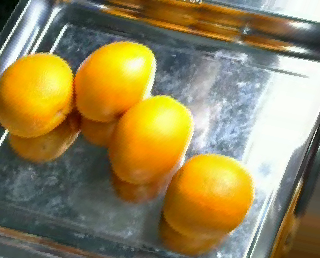Orange: (108, 95, 196, 186), (163, 153, 254, 239), (73, 39, 157, 122), (1, 52, 74, 137)
